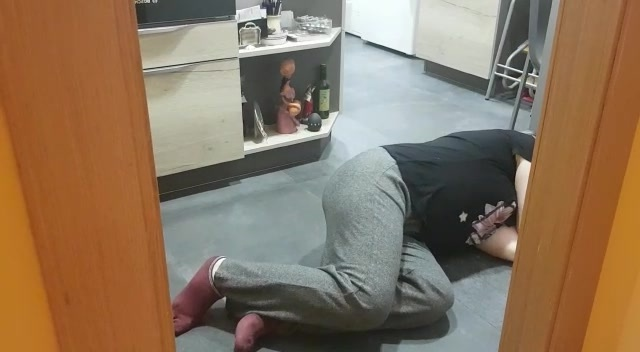fall: (154, 120, 545, 352)
